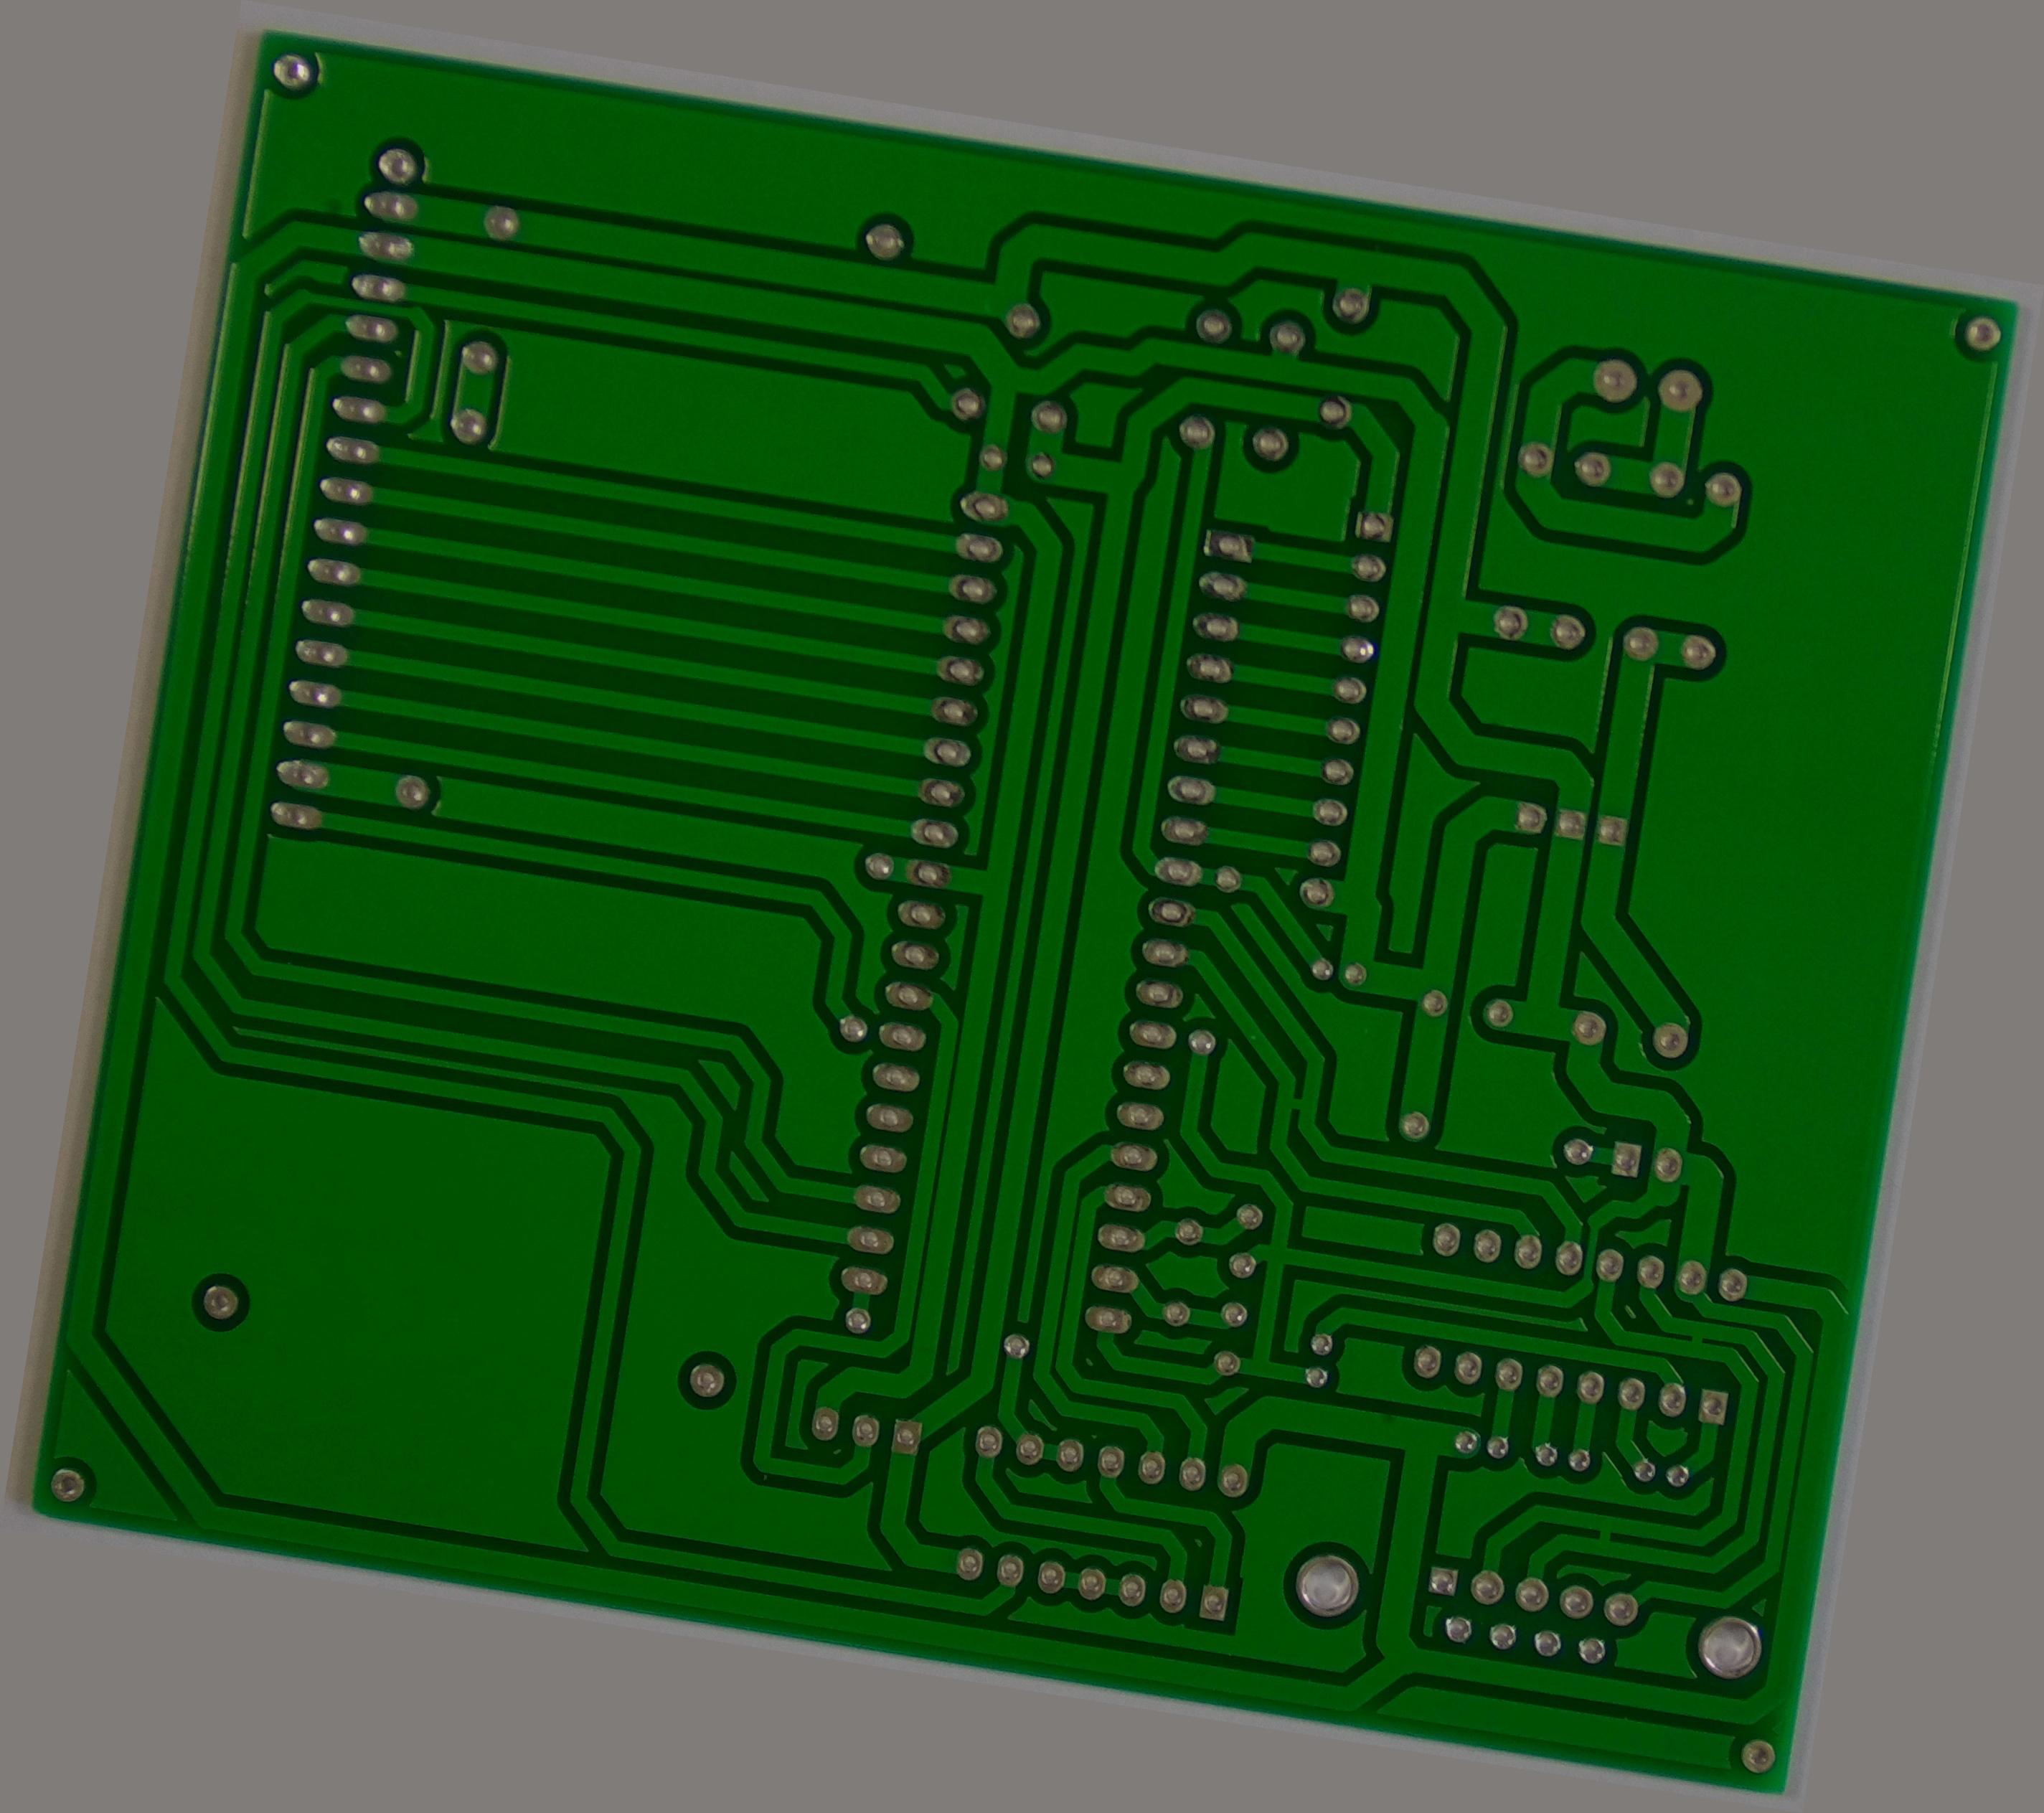short: (1564, 1500, 1640, 1570), (1263, 1069, 1325, 1132), (1671, 1309, 1725, 1360)
